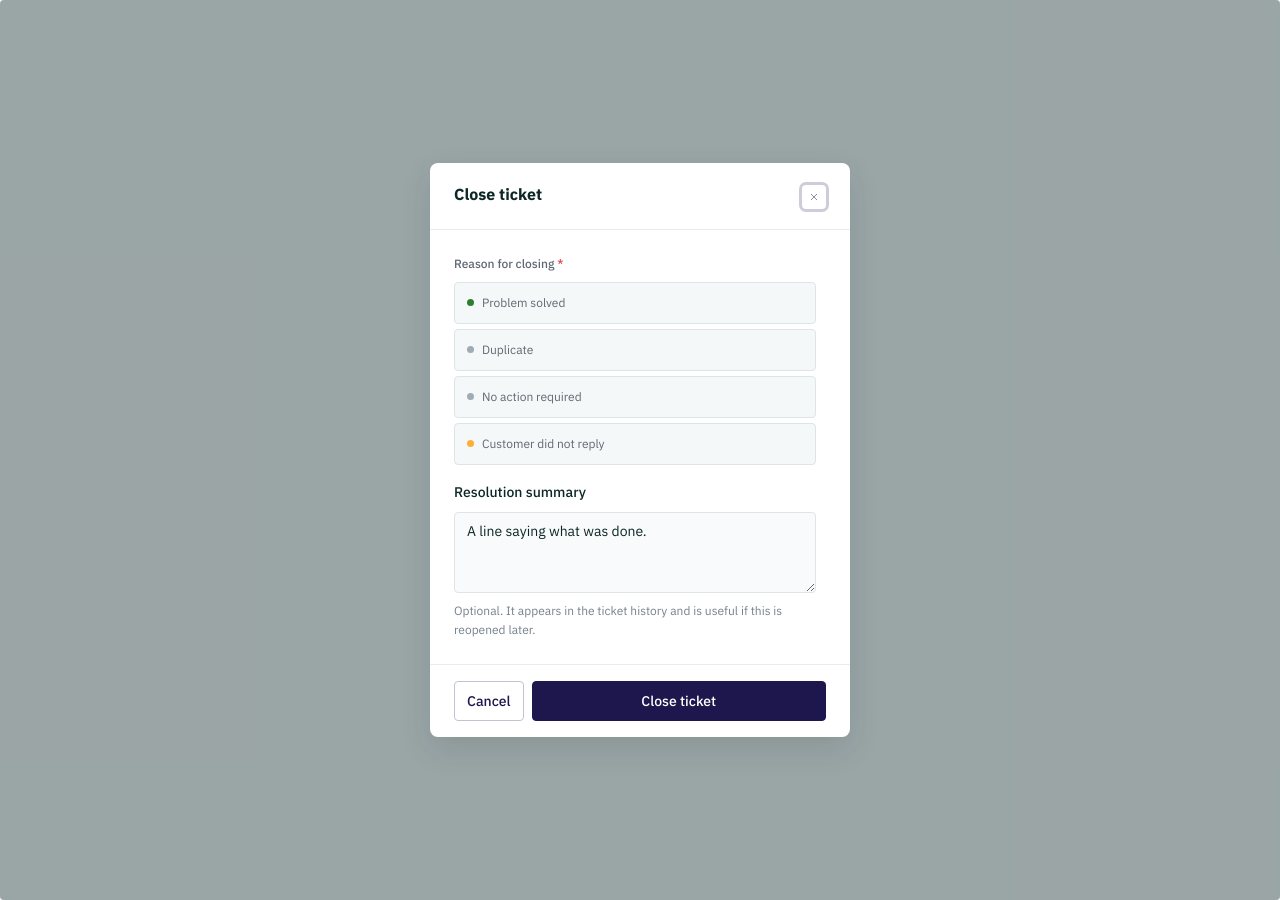
Test: AC-21 / AC-22 — the composed note and the version that goes with it › reports a 409 in words, in the modal, and does not close it
The width and height of the screenshot is (1280, 900).
Expected: the button "Close ticket" is enabled, [532,681,826,721]
Click the button "Problem solved" at x=524, y=302, box [454,282,816,324]
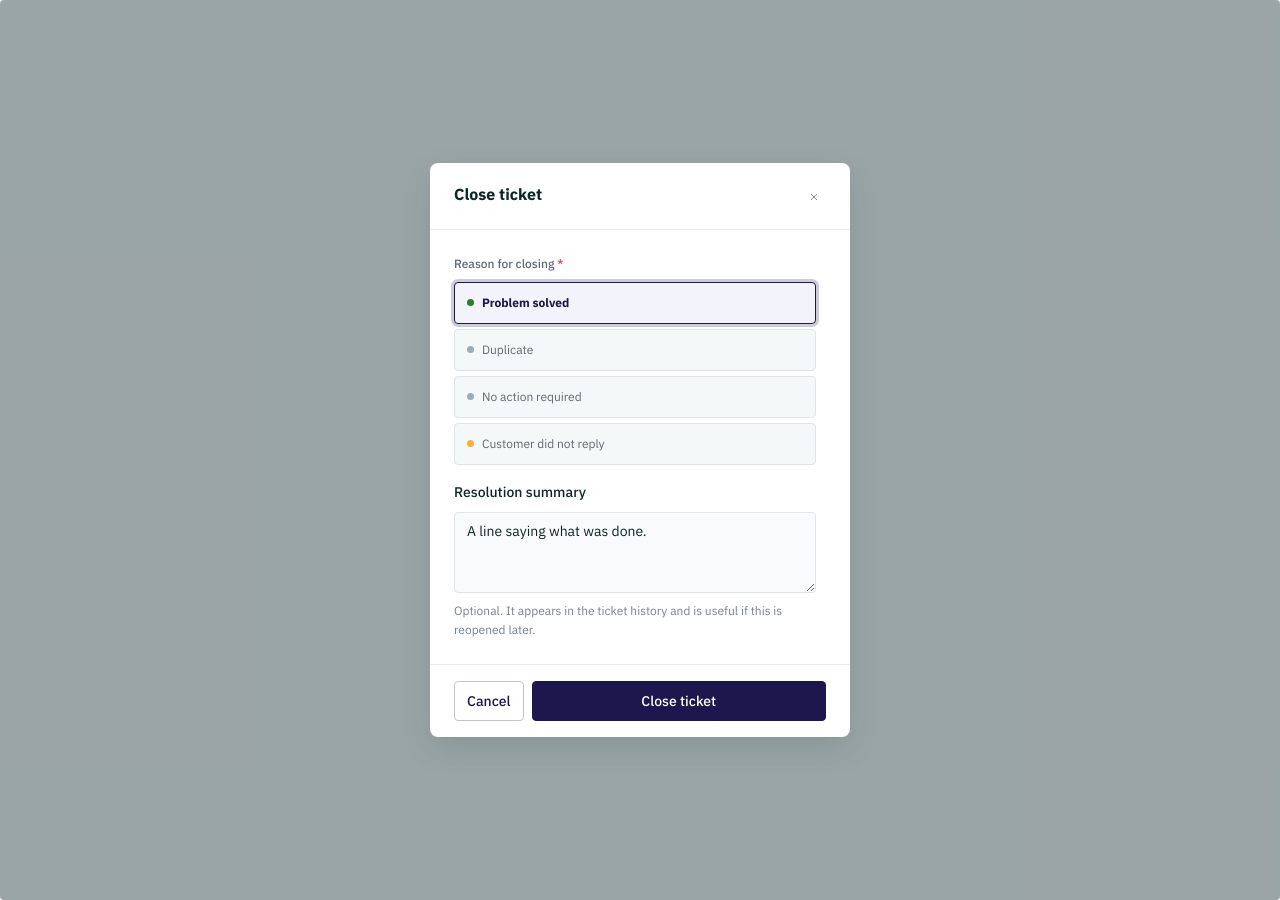
Click the button "Close ticket" at x=679, y=701, box [532,681,826,721]
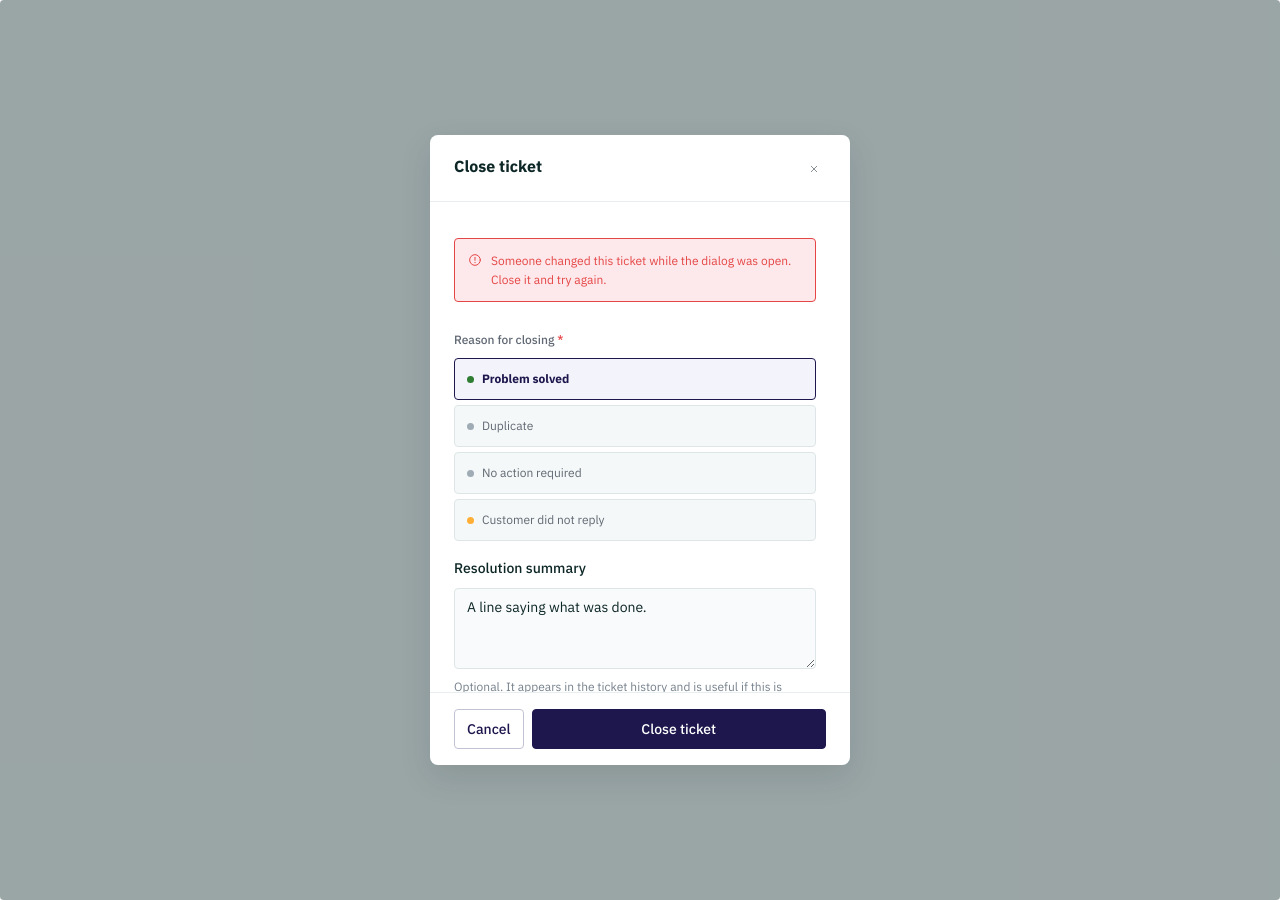
Expected: the message reads "Someone changed this ticket while the dialog was open. Close it and try again.", [491,253,791,287]
